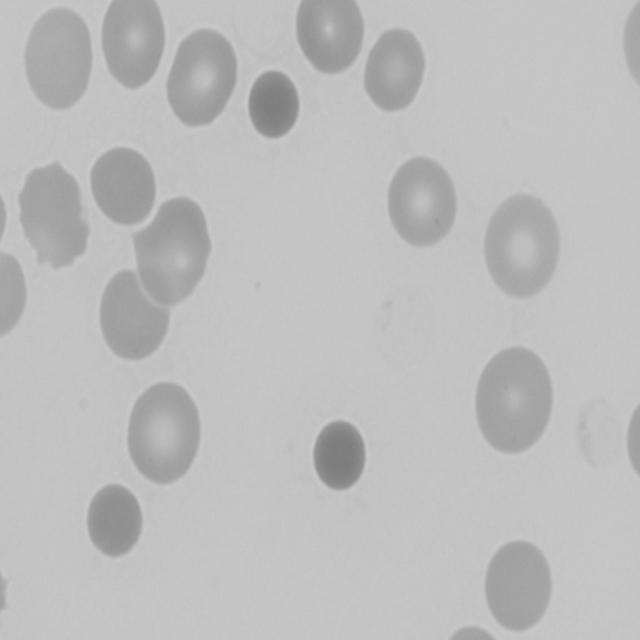RBC: (121, 372, 202, 488), (480, 190, 562, 304), (19, 2, 99, 115), (472, 344, 554, 454), (132, 197, 212, 306), (14, 162, 92, 268), (166, 22, 241, 128), (96, 264, 170, 366), (382, 150, 457, 250), (481, 533, 555, 633), (95, 0, 167, 90), (360, 24, 430, 114), (86, 140, 156, 228), (294, 0, 368, 78), (0, 242, 29, 350), (619, 0, 640, 105), (627, 381, 640, 494)
Spherocyte: (82, 481, 144, 560), (312, 419, 369, 496), (245, 66, 302, 140)
